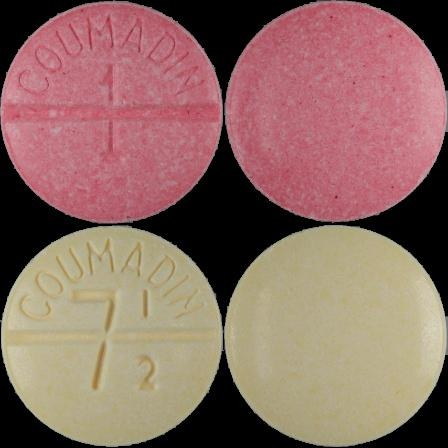43353-493: (0, 0, 224, 224)
